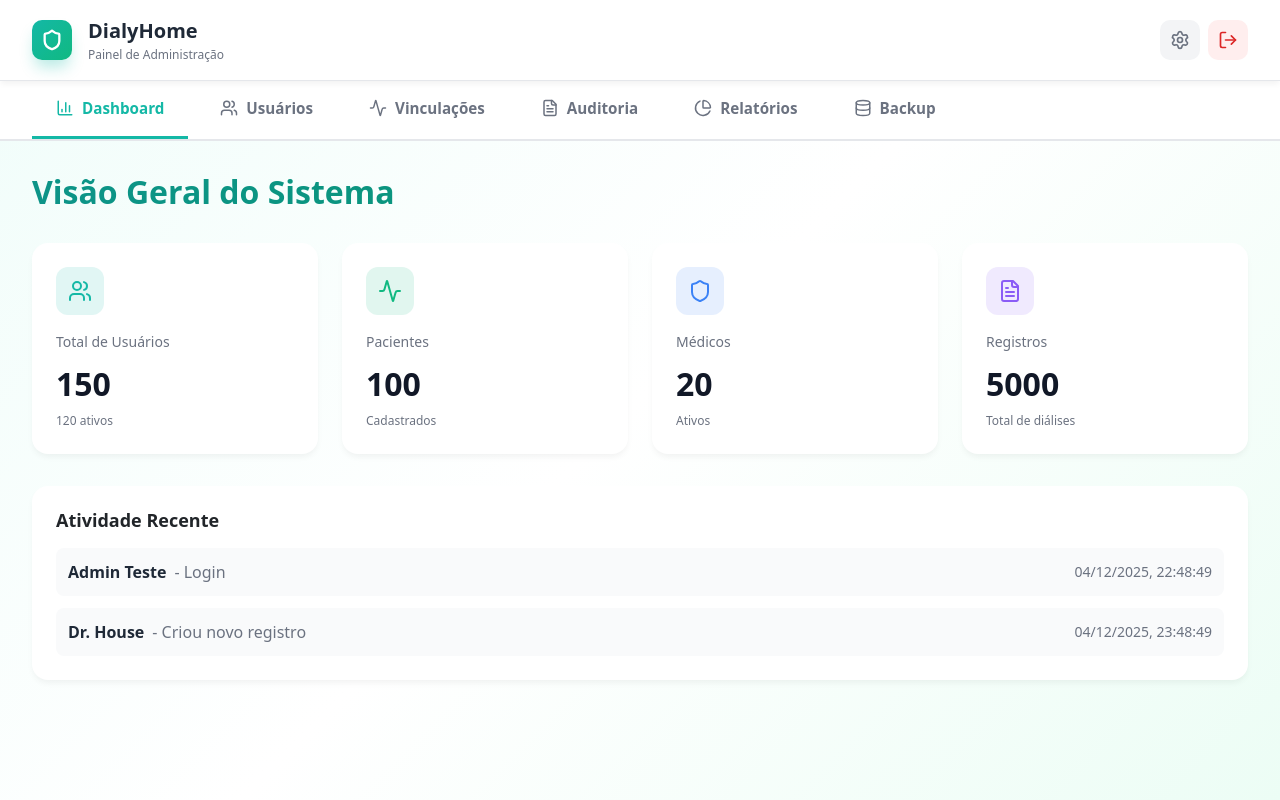
Test: AdminDashboard - Fluxo principal (integração) › troca para aba Usuários e carrega usuários
This screenshot has width=1280, height=800.
Expected: the heading "Visão Geral do Sistema" is shown, x1=32 y1=173 x2=1248 y2=211
Click the button "Usuários" at [267, 110], box x1=196 y1=81 x2=337 y2=139
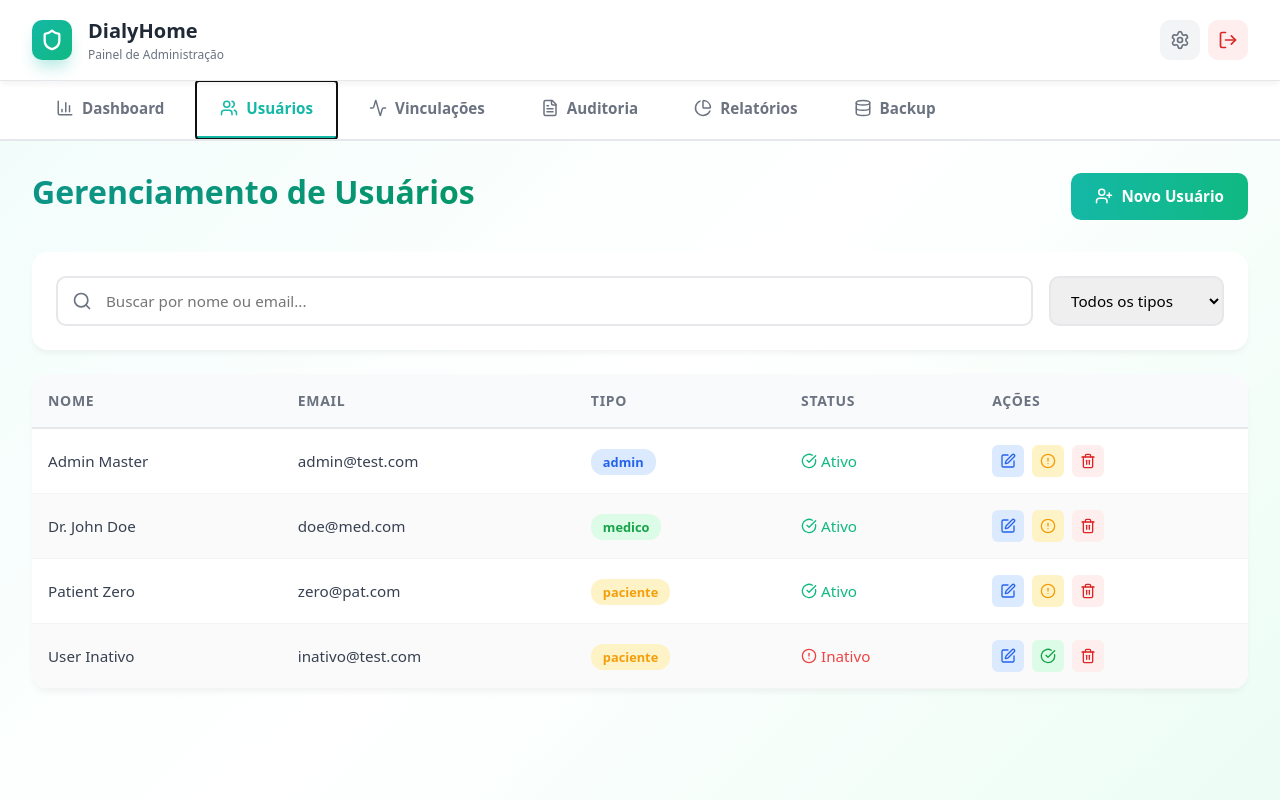
Now the heading "Gerenciamento de Usuários" is shown, box x1=32 y1=173 x2=475 y2=211
Now the text "Admin Master" is shown, box x1=32 y1=428 x2=282 y2=494
